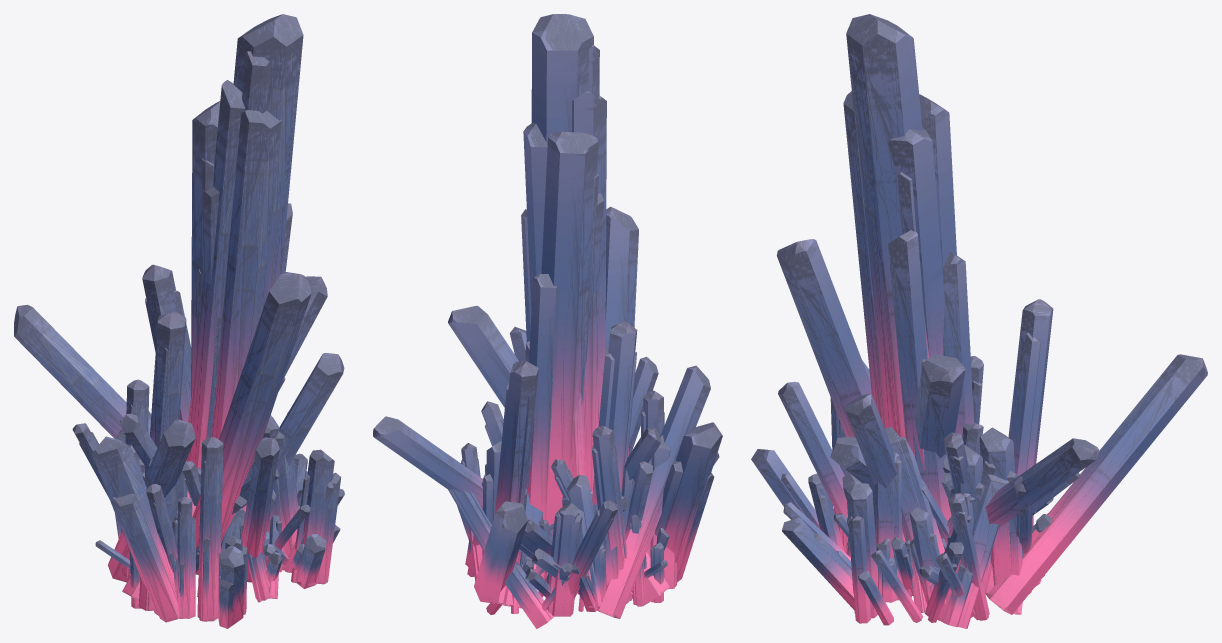
File: obelisk.glb
The picture shows the model from 3 angles, left to right: view 1: azimuth 30°, elevation 25°; view 2: azimuth 150°, elevation 25°; view 3: azimuth 270°, elevation 25°; orthographic projection. The views are drawn at different scales.
Visible parts, largest first — view 1: Crystal__0; view 2: Crystal__0; view 3: Crystal__0.
Part boxes in pixels (<box>): Crystal__0: <box>14,14,344,628</box>; Crystal__0: <box>373,14,722,628</box>; Crystal__0: <box>751,14,1207,628</box>.
Bounding box in the file's own units: 63.84 × 131 × 91.11.
Materials: 1 (1 with a texture image).
